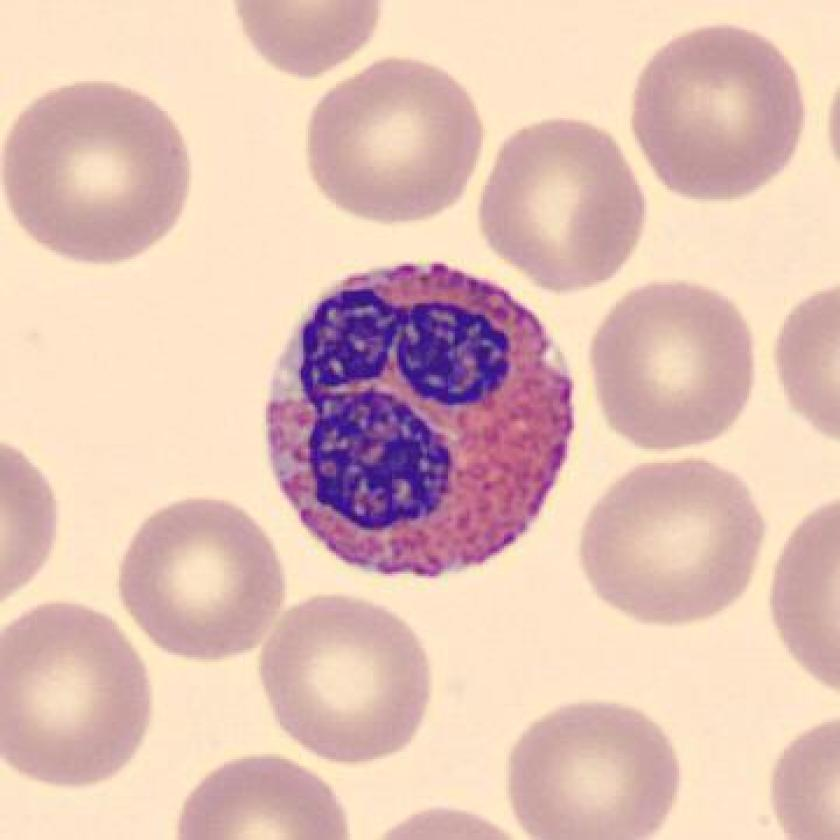eosinophil: (246, 253, 589, 591)
